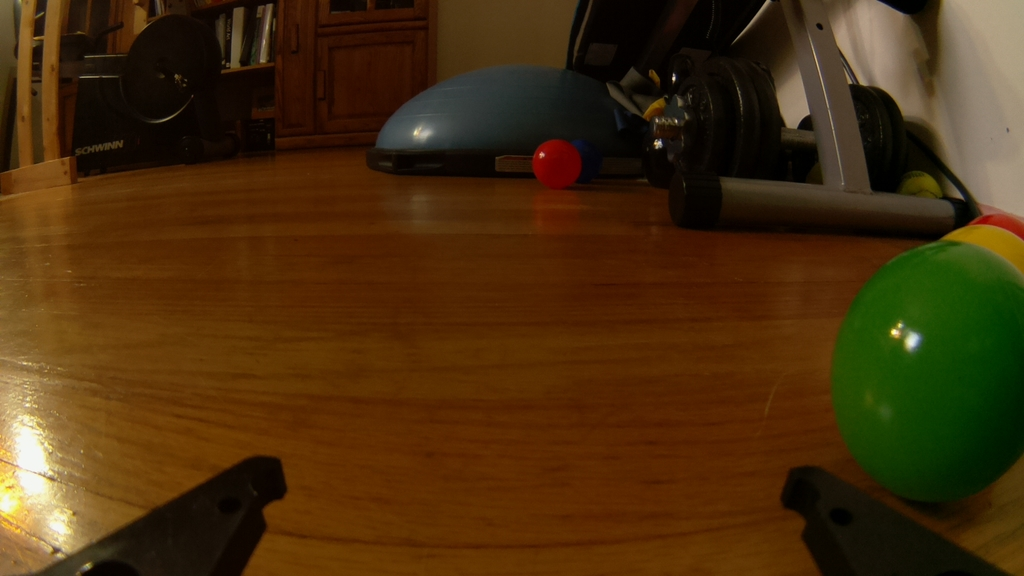ball: (828, 238, 1024, 508)
